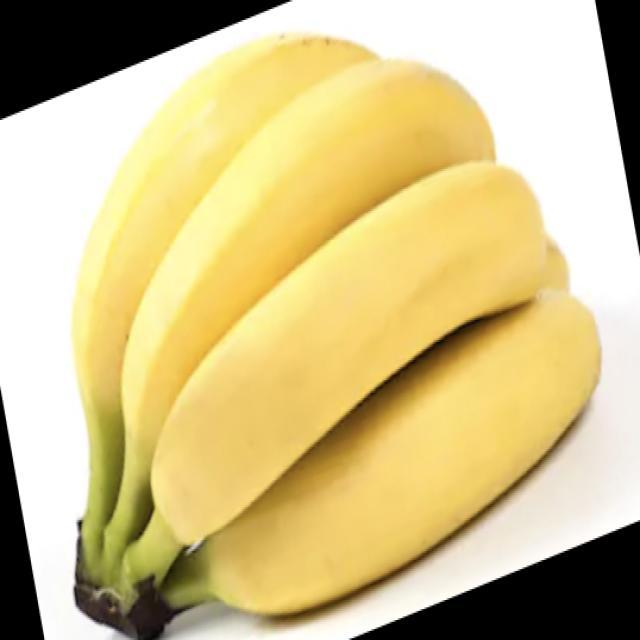Banana: (70, 31, 602, 638)
